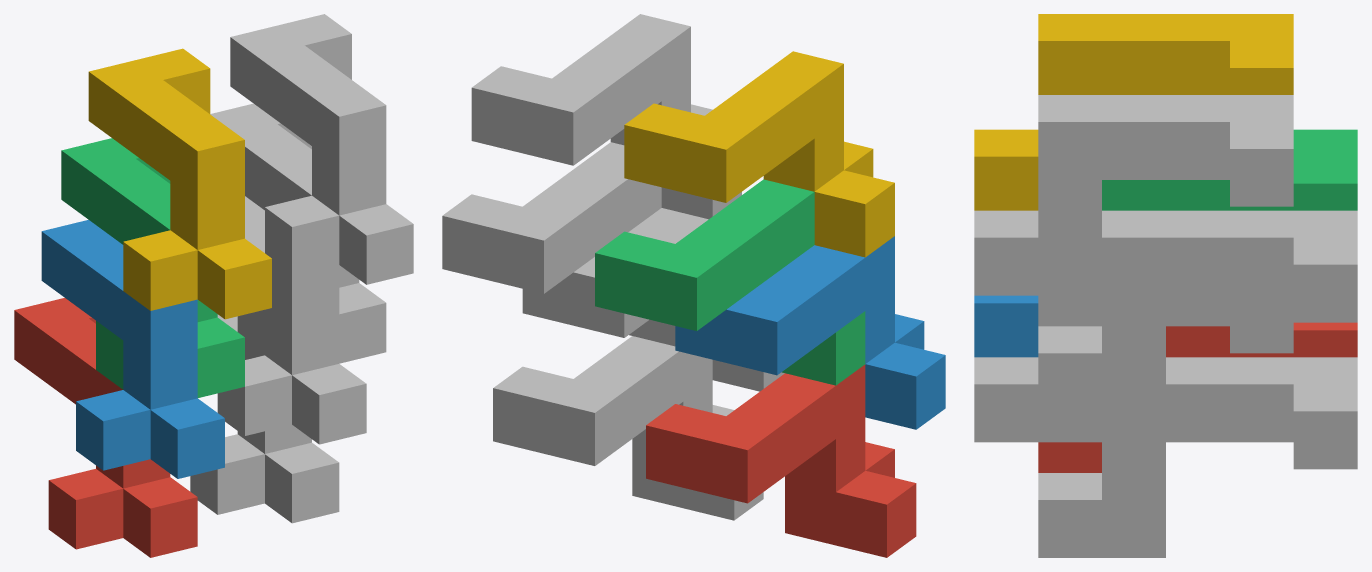
The model's file is tiling.obj.
3 renders of one model, left to right at view 1: azimuth 30°, elevation 25°; view 2: azimuth 150°, elevation 25°; view 3: azimuth 270°, elevation 25°, orthographic. The views are drawn at different scales.
Visible parts, largest first — view 1: copy_1_domain_4, copy_1_domain_8, copy_1_domain_2, copy_1_domain_1, copy_1_domain_6, copy_1_domain_3, copy_1_domain_7, copy_1_domain_5; view 2: copy_1_domain_1, copy_1_domain_4, copy_1_domain_2, copy_1_domain_3, copy_1_domain_8, copy_1_domain_5, copy_1_domain_7, copy_1_domain_6; view 3: copy_1_domain_7, copy_1_domain_8, copy_1_domain_5, copy_1_domain_4, copy_1_domain_6, copy_1_domain_3, copy_1_domain_1, copy_1_domain_2.
Part boxes in pixels (x1=…): copy_1_domain_4: x1=88, y1=48, x2=271, y2=319; copy_1_domain_8: x1=230, y1=14, x2=413, y2=284; copy_1_domain_2: x1=41, y1=220, x2=224, y2=478; copy_1_domain_1: x1=14, y1=298, x2=197, y2=557; copy_1_domain_6: x1=217, y1=196, x2=366, y2=444; copy_1_domain_3: x1=61, y1=138, x2=244, y2=397; copy_1_domain_7: x1=210, y1=103, x2=386, y2=363; copy_1_domain_5: x1=190, y1=314, x2=339, y2=523; copy_1_domain_1: x1=646, y1=364, x2=916, y2=557; copy_1_domain_4: x1=624, y1=51, x2=894, y2=257; copy_1_domain_2: x1=675, y1=236, x2=945, y2=429; copy_1_domain_3: x1=595, y1=179, x2=865, y2=385; copy_1_domain_8: x1=471, y1=14, x2=741, y2=219; copy_1_domain_5: x1=493, y1=336, x2=763, y2=520; copy_1_domain_7: x1=442, y1=142, x2=675, y2=346; copy_1_domain_6: x1=522, y1=208, x2=784, y2=391; copy_1_domain_7: x1=1038, y1=210, x2=1357, y2=411; copy_1_domain_8: x1=974, y1=95, x2=1293, y2=295; copy_1_domain_5: x1=1038, y1=357, x2=1357, y2=557; copy_1_domain_4: x1=974, y1=14, x2=1293, y2=210; copy_1_domain_6: x1=974, y1=295, x2=1293, y2=442; copy_1_domain_3: x1=1102, y1=129, x2=1357, y2=210; copy_1_domain_1: x1=1038, y1=322, x2=1357, y2=472; copy_1_domain_2: x1=974, y1=295, x2=1038, y2=357.
Size of the model in its own units: 7 by 8 by 6.
